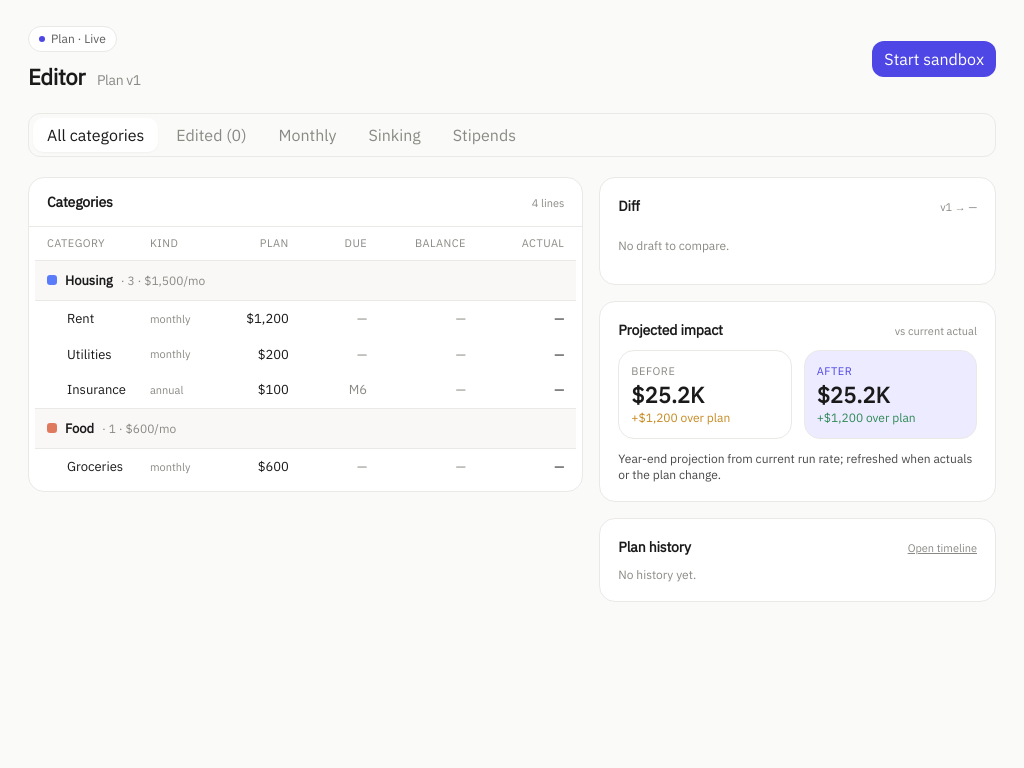
Scenario: PlanPage › opens the discard confirmation dialog after entering sandbox mode
What coordinates should you click on to do the following:
click the button "Start sandbox"
I would click on:
 (934, 58)
Its box is [872,40,996,76].
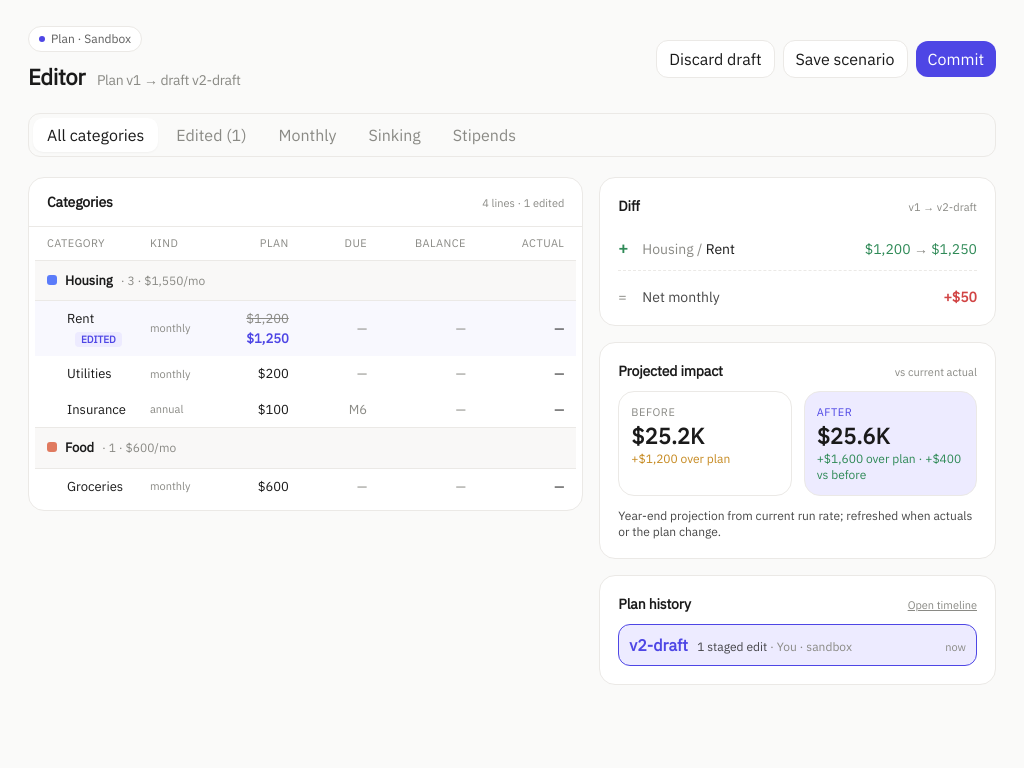
What coordinates should you click on to do the following:
click the button "Discard draft"
I would click on:
 (715, 58)
Its box is [656,40,774,78].
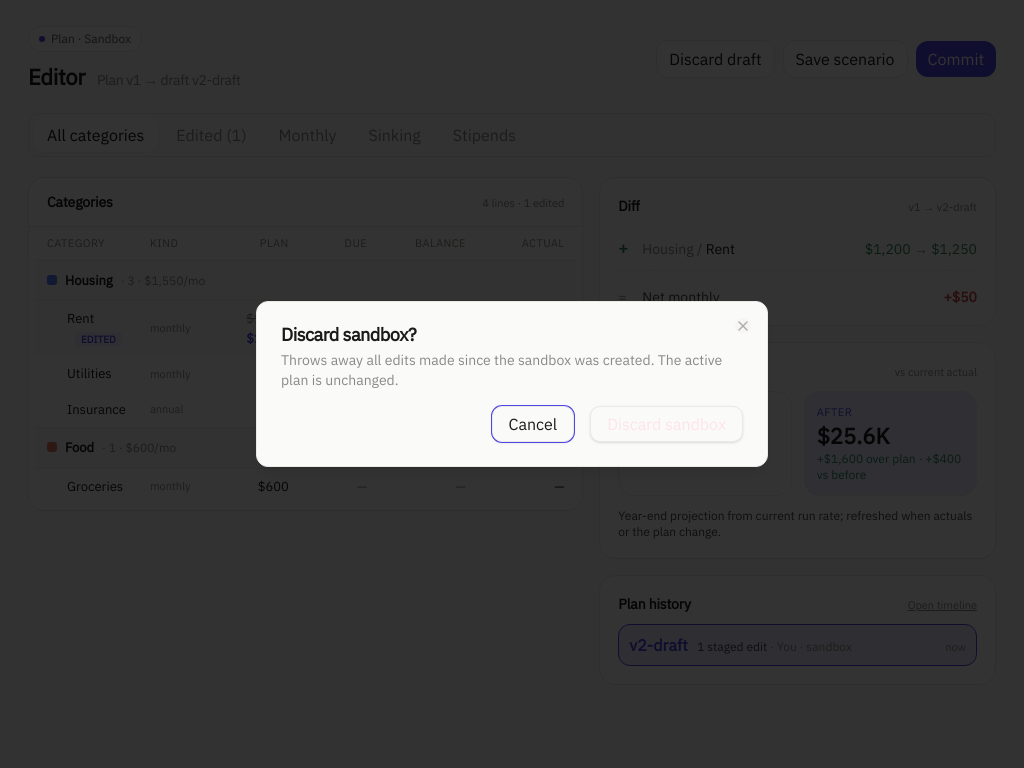
Expected: the heading "Discard sandbox?" is shown, [281,323,416,346]
